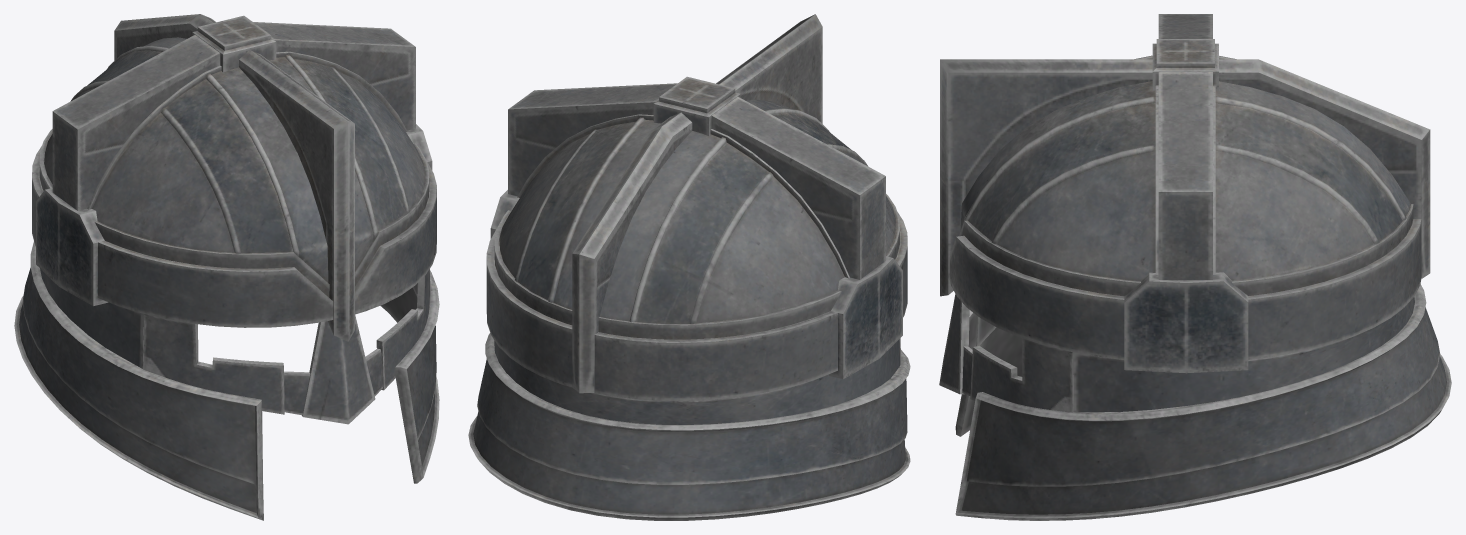
The model's file is sk_dwarf_erebor_helmet_plate_med_d.fbx.
3 renders of one model, left to right at view 1: azimuth 30°, elevation 25°; view 2: azimuth 150°, elevation 25°; view 3: azimuth 270°, elevation 25°, orthographic. The views are drawn at different scales.
Parts seen in each view (by area): view 1: sk_dwarf_erebor_helmet_plate_med_d; view 2: sk_dwarf_erebor_helmet_plate_med_d; view 3: sk_dwarf_erebor_helmet_plate_med_d.
Boxes of the visible parts, <box> form: sk_dwarf_erebor_helmet_plate_med_d: <box>14,14,439,520</box>; sk_dwarf_erebor_helmet_plate_med_d: <box>468,14,910,520</box>; sk_dwarf_erebor_helmet_plate_med_d: <box>939,14,1451,520</box>.
Size of the model in its own units: 0.2646 by 0.3095 by 0.2833.
1 material, 1 textured.
